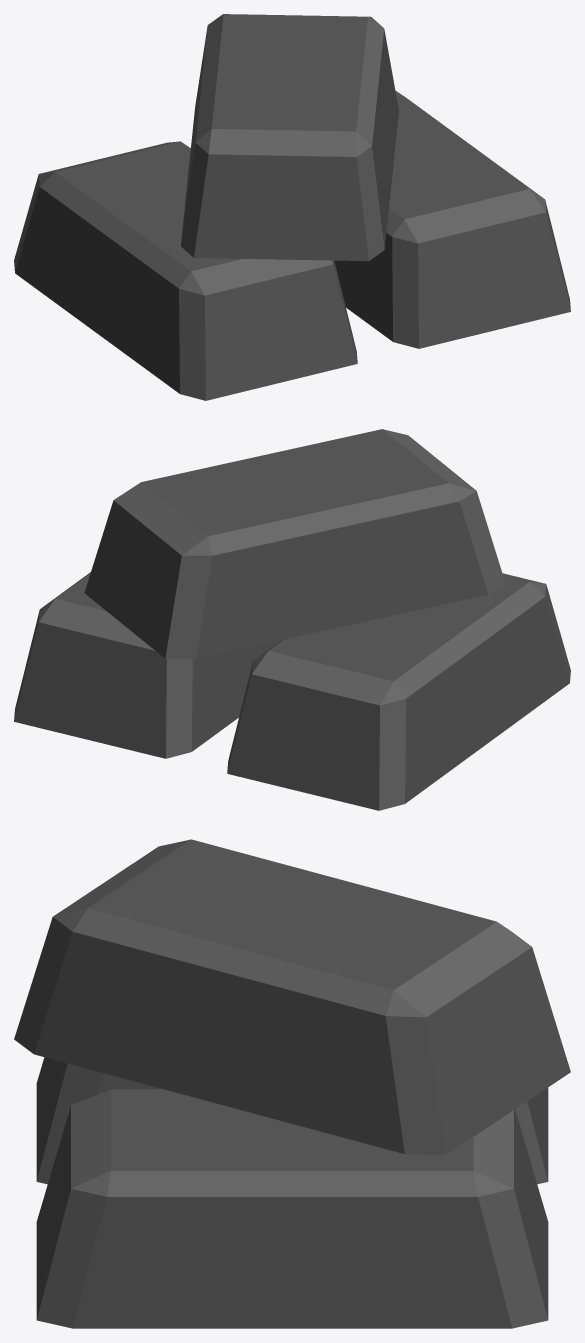
File: iron stack.fbx
The picture shows the model from 3 angles, top to bottom: view 1: azimuth 30°, elevation 25°; view 2: azimuth 150°, elevation 25°; view 3: azimuth 270°, elevation 25°; orthographic projection. The views are drawn at different scales.
Visible parts, largest first — view 1: iron stack; view 2: iron stack; view 3: iron stack.
Boxes of the visible parts, x1,y1,x2,y2 form: iron stack: [14, 14, 570, 400]; iron stack: [14, 429, 570, 810]; iron stack: [14, 839, 570, 1328].
Bounding box in the file's own units: 20.72 × 10.87 × 19.23.
